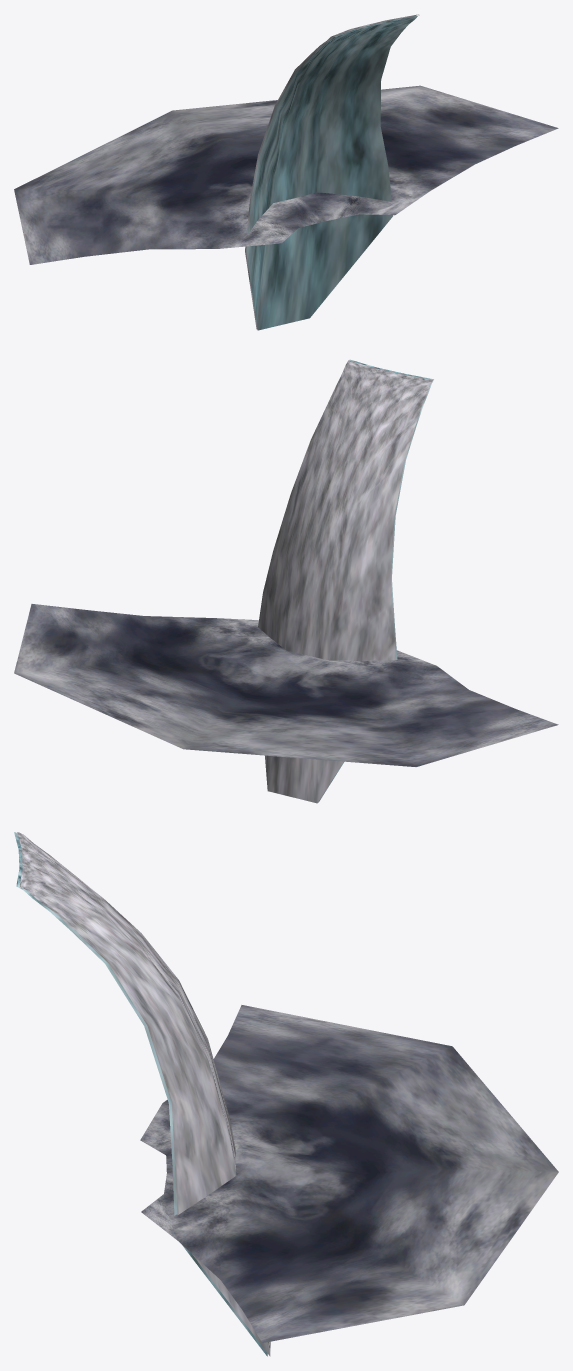
File: LONE_MOUNTAIN_WATERFALLS_WATERFALL_LAKE.fbx
3 views of the same model, one above another, from view 1: azimuth 30°, elevation 25°; view 2: azimuth 150°, elevation 25°; view 3: azimuth 270°, elevation 25° (orthographic). The views are drawn at different scales.
Visible parts, largest first — view 1: LONE_MOUNTAIN_WATERFALLS_WATERFALL_LAKE; view 2: LONE_MOUNTAIN_WATERFALLS_WATERFALL_LAKE; view 3: LONE_MOUNTAIN_WATERFALLS_WATERFALL_LAKE.
Part boxes in pixels (x1,y1,x2,y2): LONE_MOUNTAIN_WATERFALLS_WATERFALL_LAKE: (14, 14, 558, 330); LONE_MOUNTAIN_WATERFALLS_WATERFALL_LAKE: (14, 359, 558, 803); LONE_MOUNTAIN_WATERFALLS_WATERFALL_LAKE: (14, 832, 558, 1356).
Size of the model in its own units: 120221 by 79346 by 81822.
Materials: 3 (3 with a texture image).
